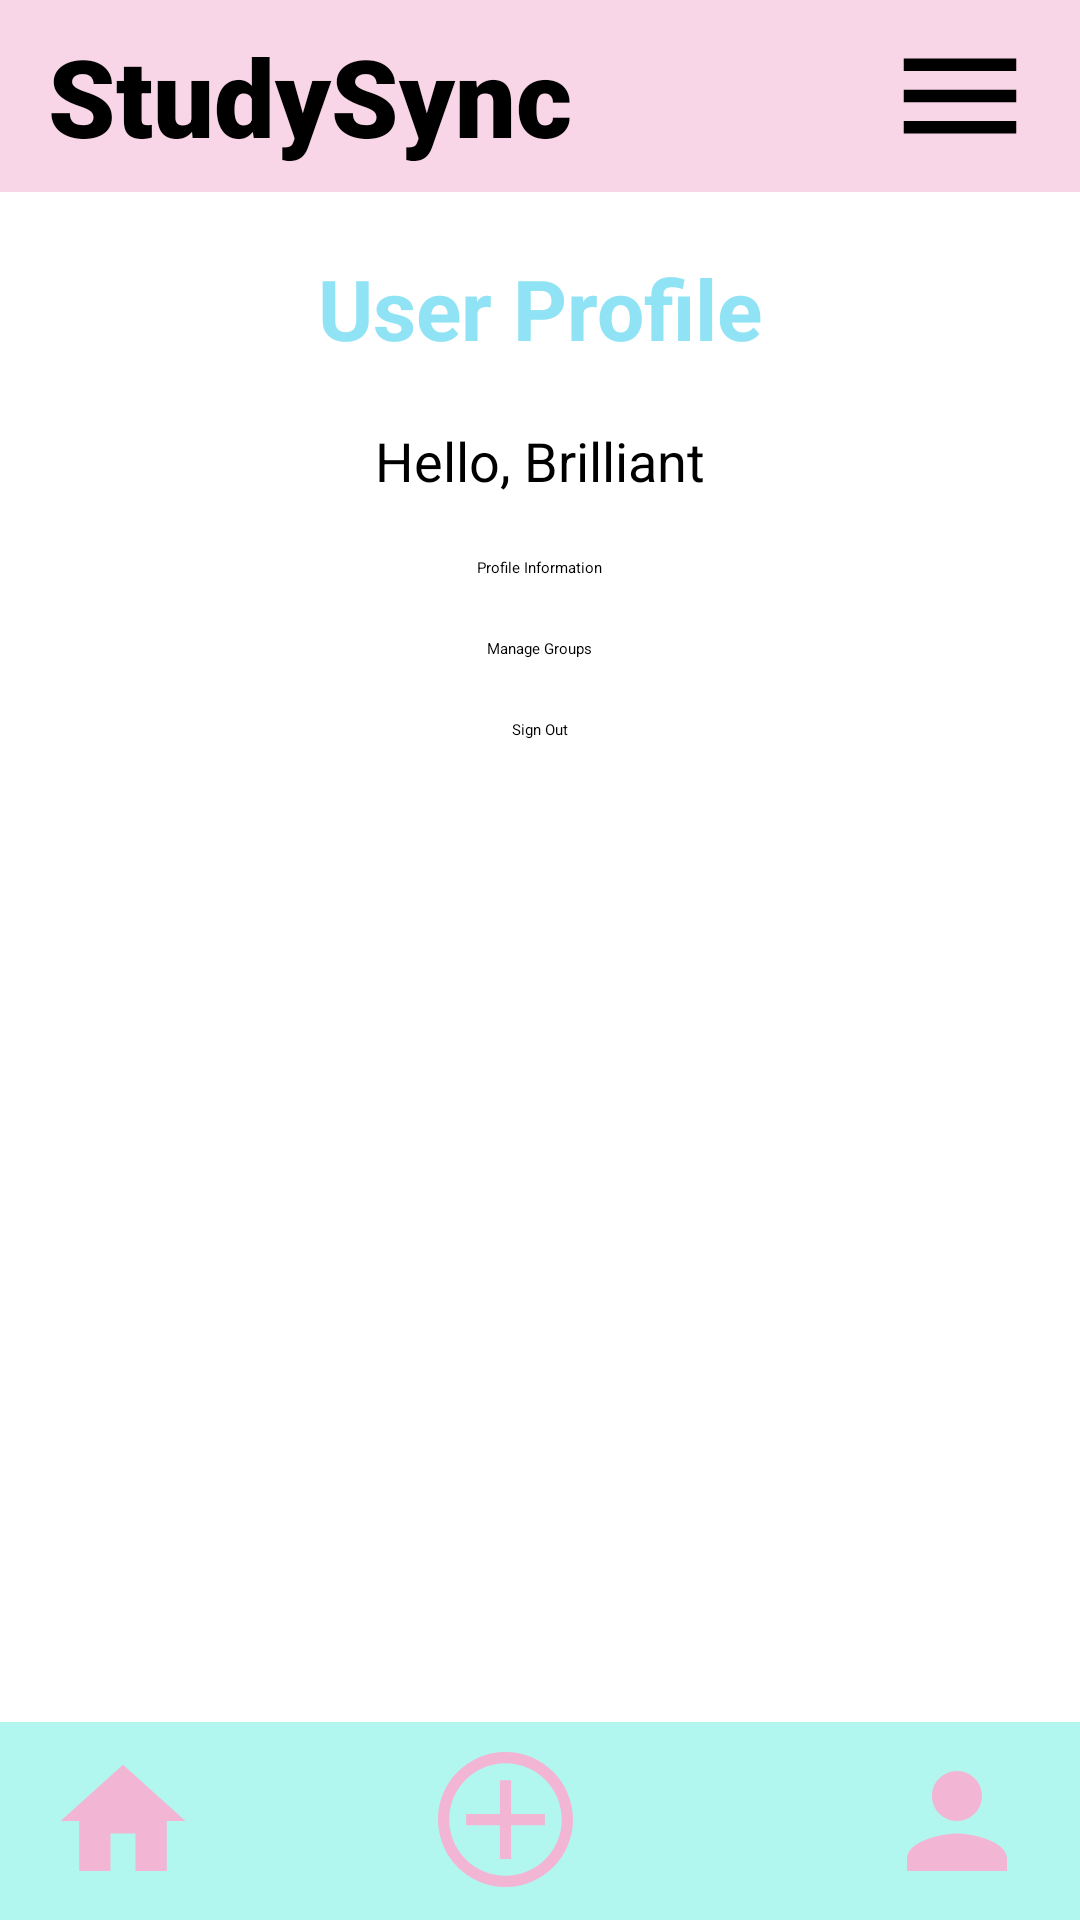

Where icons sit on this 1080px x 1920px app screen, as box=[x1, y1, x2, y2]:
hamburger menu: box=[903, 58, 1017, 134]
plus: box=[438, 1752, 573, 1887]
profile: box=[907, 1771, 1007, 1871]
